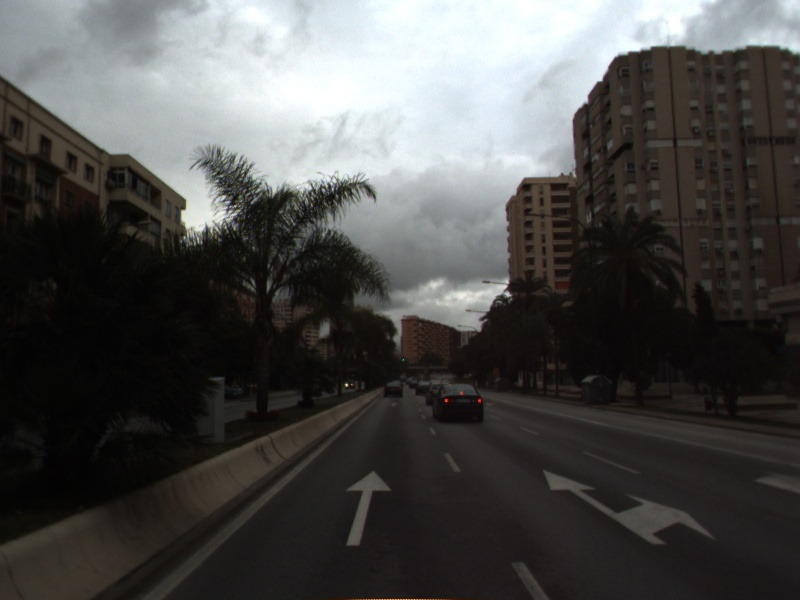RIGHT: (752, 468, 800, 496)
STRAIGHT: (342, 468, 395, 548)
STRAIGHT_RIGHT: (540, 467, 717, 547)
